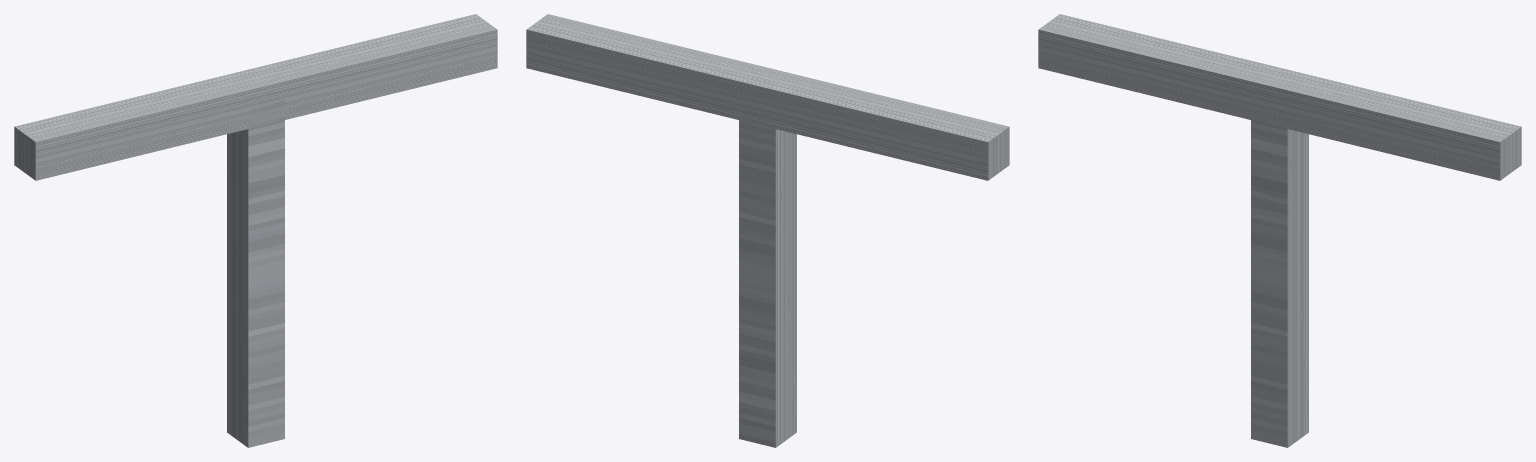
Rendered from noise-barrier-railing.glb.
The picture shows the model from 3 angles, left to right: view 1: azimuth 30°, elevation 25°; view 2: azimuth 150°, elevation 25°; view 3: azimuth 330°, elevation 25°; orthographic projection.
Parts seen in each view (by area): view 1: bridge-railing-top, bridge-railing-post; view 2: bridge-railing-top, bridge-railing-post; view 3: bridge-railing-top, bridge-railing-post.
Boxes of the visible parts, bbox=[...] form: bridge-railing-top: bbox=[14, 14, 497, 180]; bridge-railing-post: bbox=[227, 101, 284, 447]; bridge-railing-top: bbox=[526, 14, 1009, 180]; bridge-railing-post: bbox=[739, 101, 796, 447]; bridge-railing-top: bbox=[1038, 14, 1521, 180]; bridge-railing-post: bbox=[1251, 101, 1308, 447].
Bounding box in the file's own units: 1 × 0.74 × 0.08.
1 material, 1 textured.
